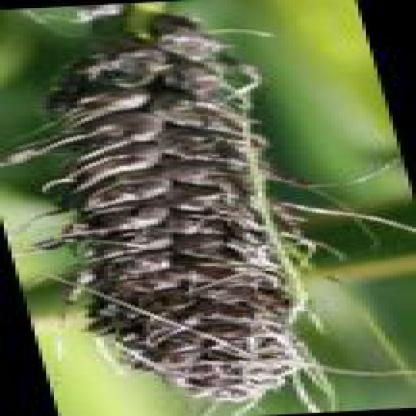Wheat Smut: (76, 202, 260, 252), (101, 256, 276, 308), (105, 315, 291, 345), (58, 79, 238, 110), (66, 168, 240, 196), (58, 113, 244, 136), (80, 141, 237, 162), (138, 350, 275, 372), (186, 376, 268, 399), (158, 30, 216, 60), (85, 54, 147, 73), (164, 64, 238, 75)
